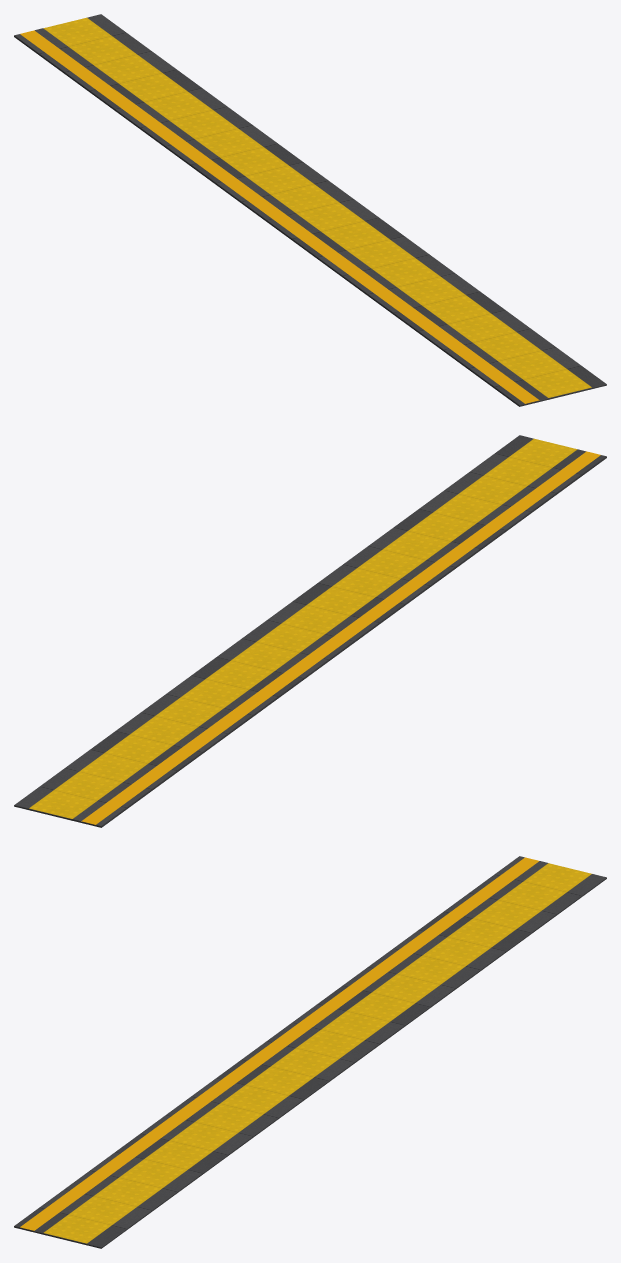
Rendered from gteki_platform_edge_l6000_dots.glb.
The picture shows the model from 3 angles, top to bottom: view 1: azimuth 30°, elevation 25°; view 2: azimuth 150°, elevation 25°; view 3: azimuth 330°, elevation 25°; orthographic projection.
Parts seen in each view (by area): view 1: VIS_tactile, VIS_coping, VIS_line; view 2: VIS_tactile, VIS_coping, VIS_line; view 3: VIS_tactile, VIS_coping, VIS_line.
Part boxes in pixels (x1,y1,x2,y2): VIS_tactile: [43, 17, 592, 399]; VIS_coping: [14, 14, 606, 406]; VIS_line: [20, 30, 539, 405]; VIS_tactile: [28, 438, 577, 820]; VIS_coping: [14, 435, 606, 827]; VIS_line: [81, 451, 600, 826]; VIS_tactile: [43, 863, 591, 1245]; VIS_coping: [14, 856, 606, 1248]; VIS_line: [19, 857, 538, 1232].
Size of the model in its own units: 0.6 by 0.01 by 6.
Materials: 3 (2 with a texture image).
